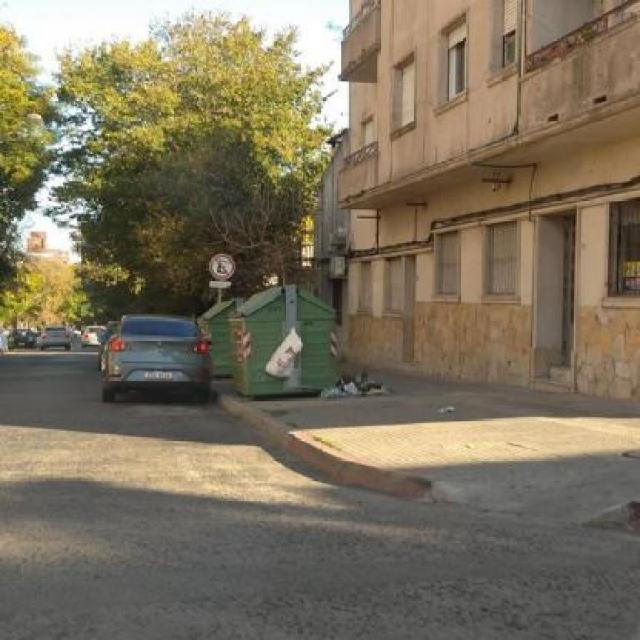garbage: (265, 326, 308, 388), (312, 369, 394, 398), (426, 400, 459, 422)
